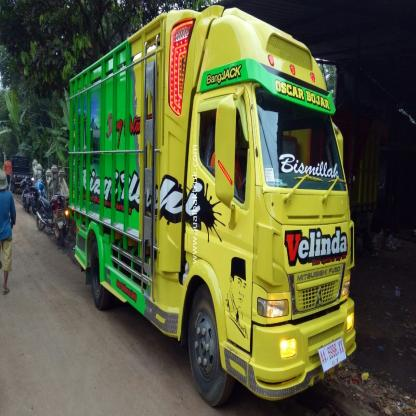truck: (70, 7, 358, 401)
